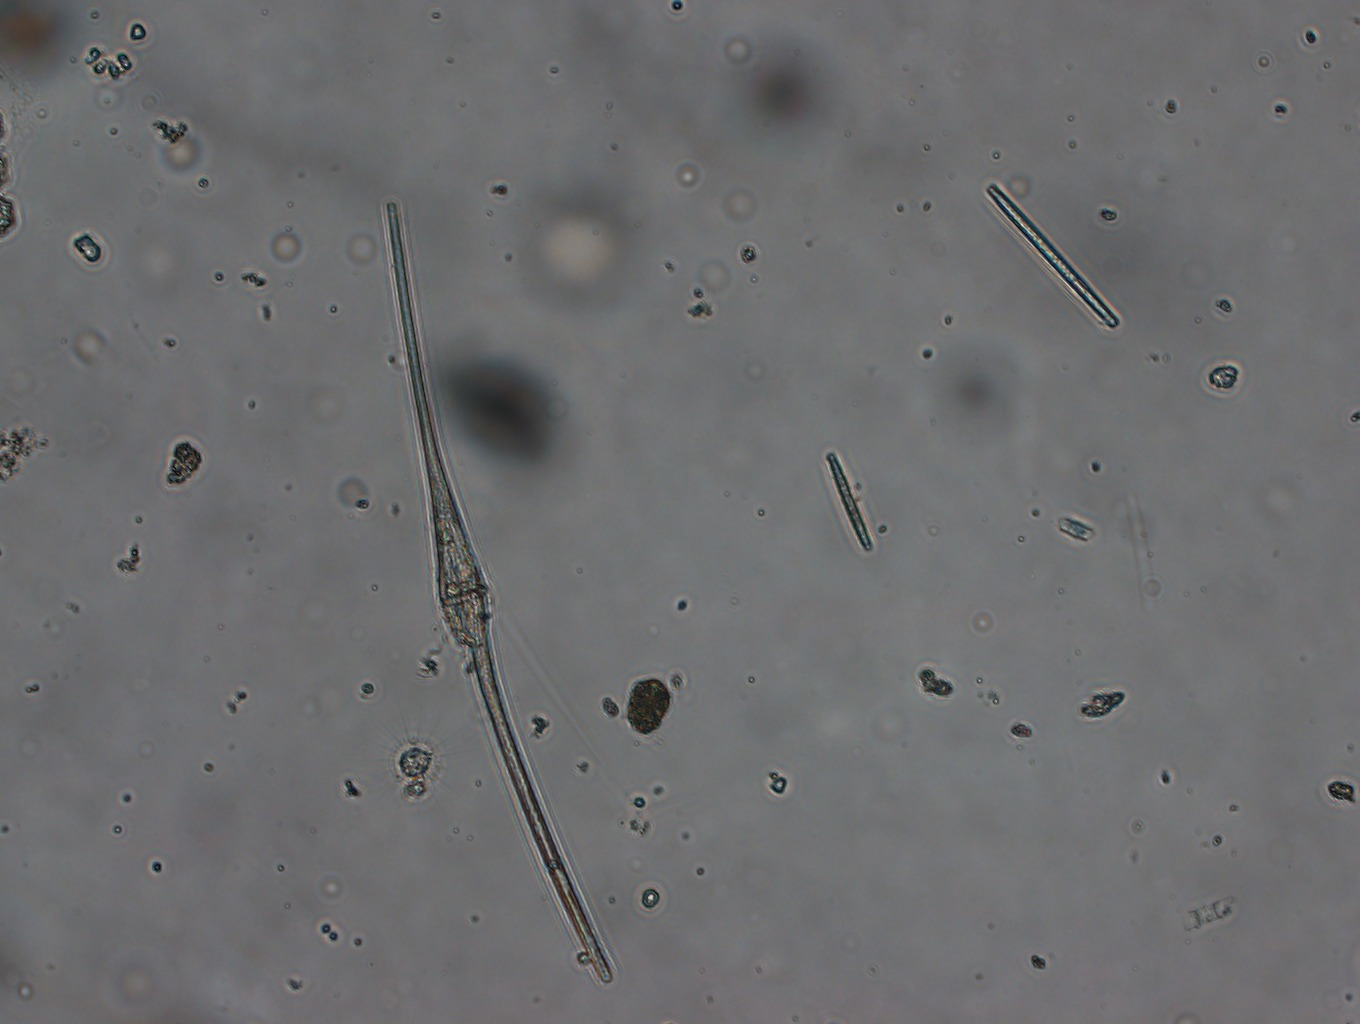ceratium fusus: (372, 198, 631, 989)
